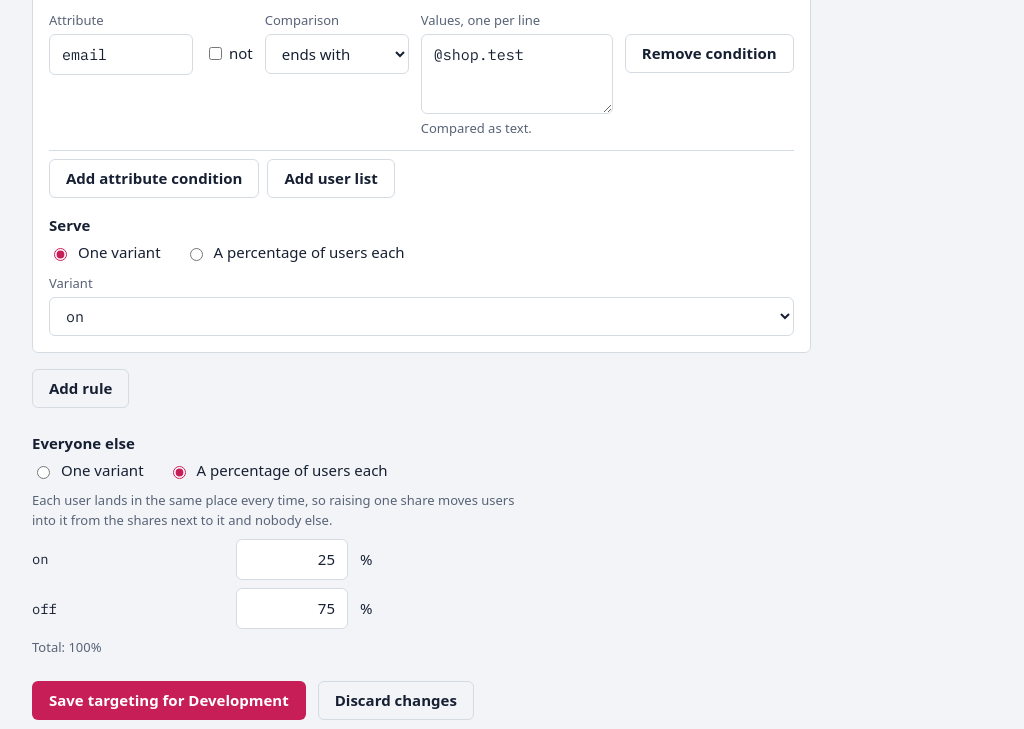
Test: editing targeting › moves a rule up so it is tried first
(page scrolled)
Click the button "Add rule" at (81, 388), box [32,369,129,408]
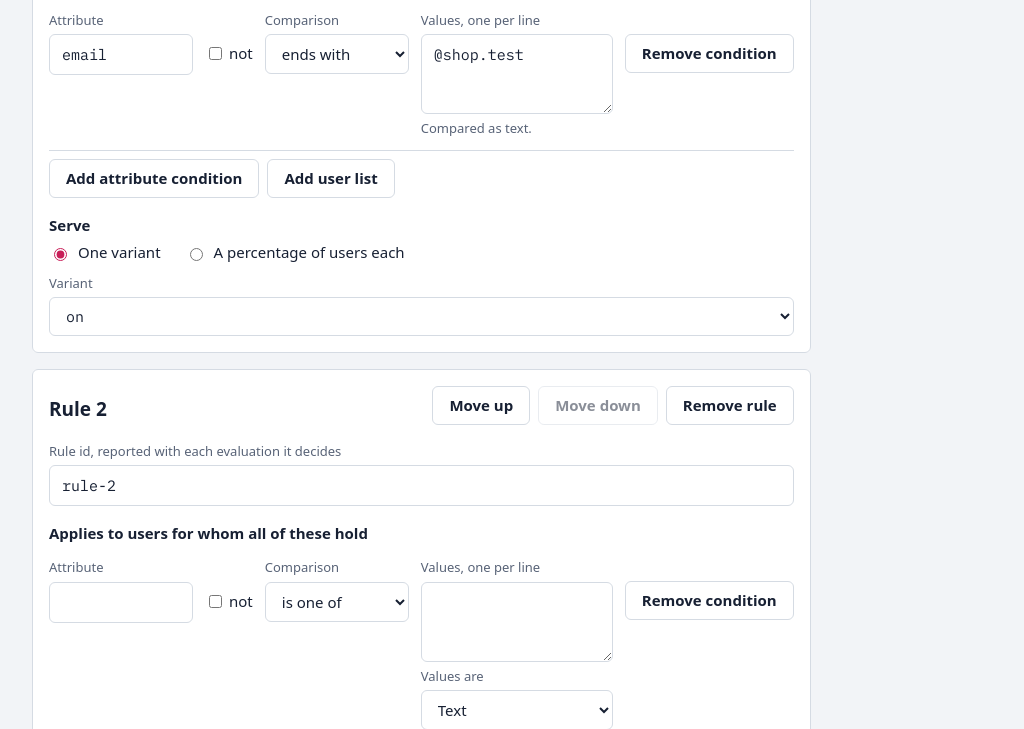
Type "country" into the field labelled "Attribute" below "Rule 2" at (121, 602), box [49,582,193,623]
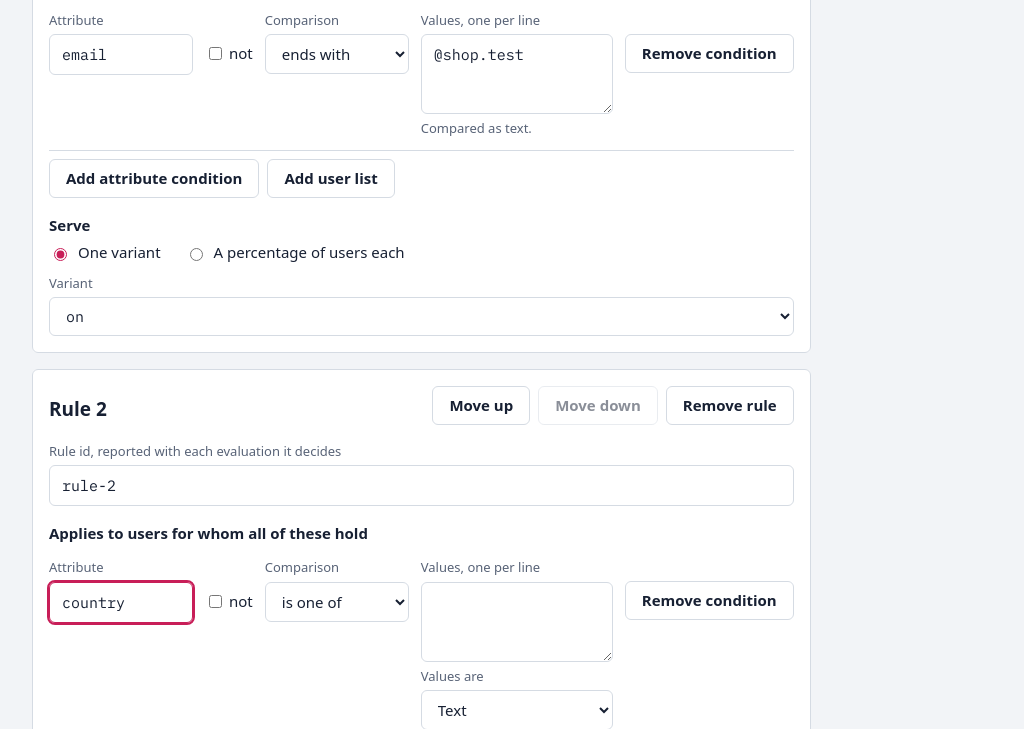
Type "DE" into the 2nd text box labelled "Values, one per line" at (517, 622), box [421,582,613,662]
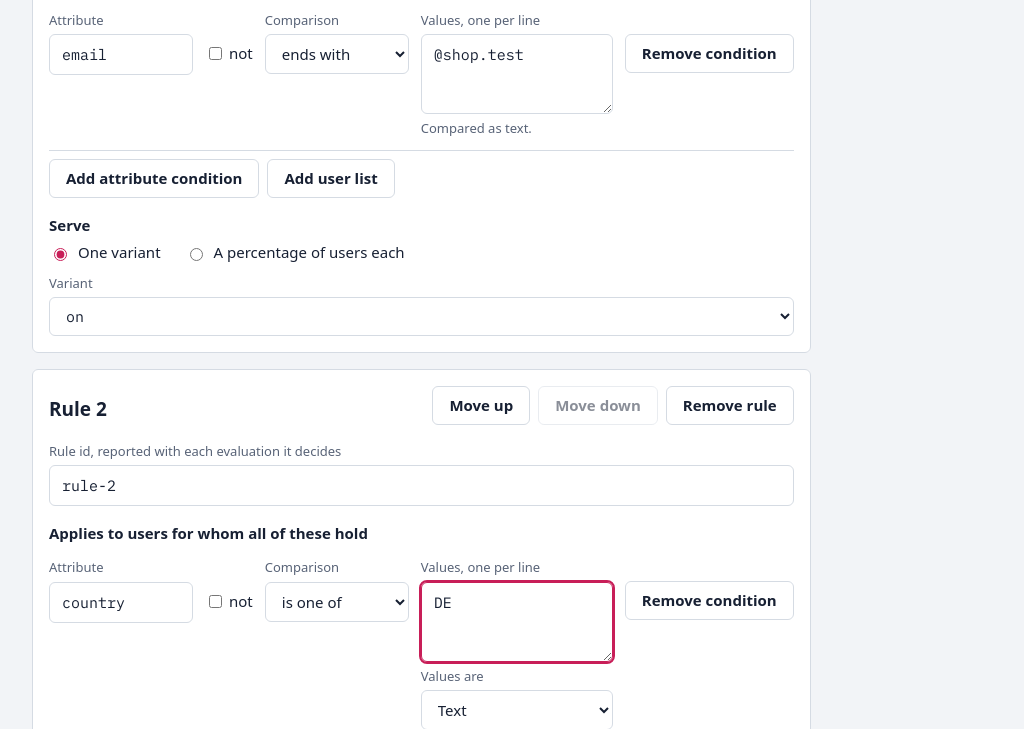
Click the button "Move up" at (481, 405), box [432,386,530,425]
(page scrolled)
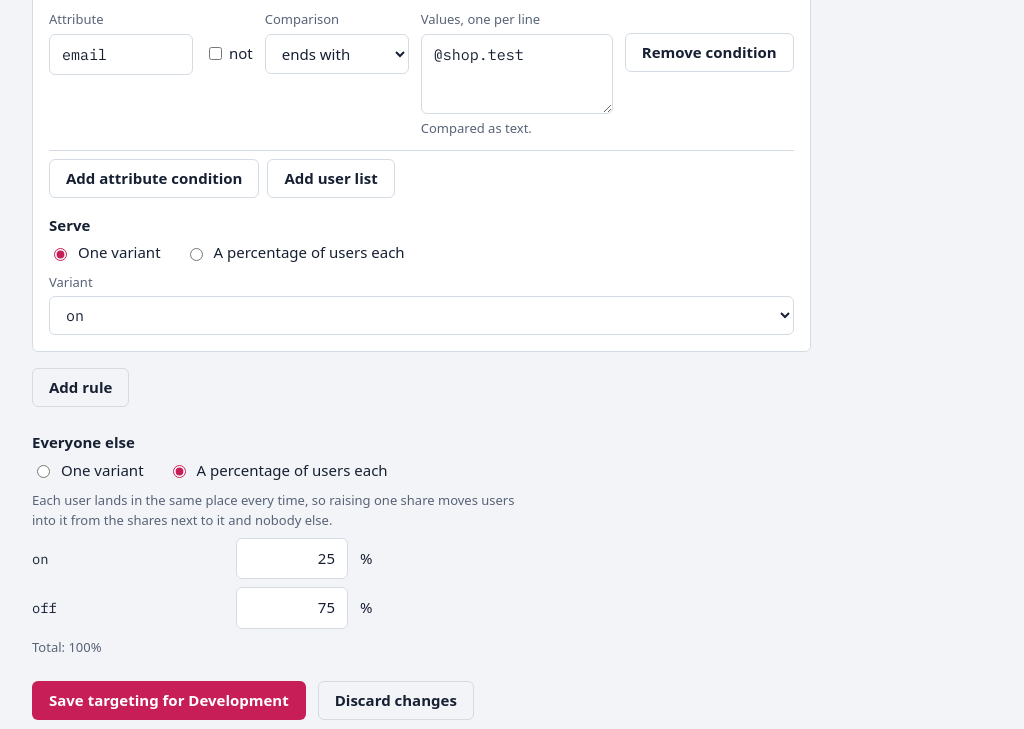
Click the button "Save targeting for Development" at (169, 700), box [32,681,306,720]
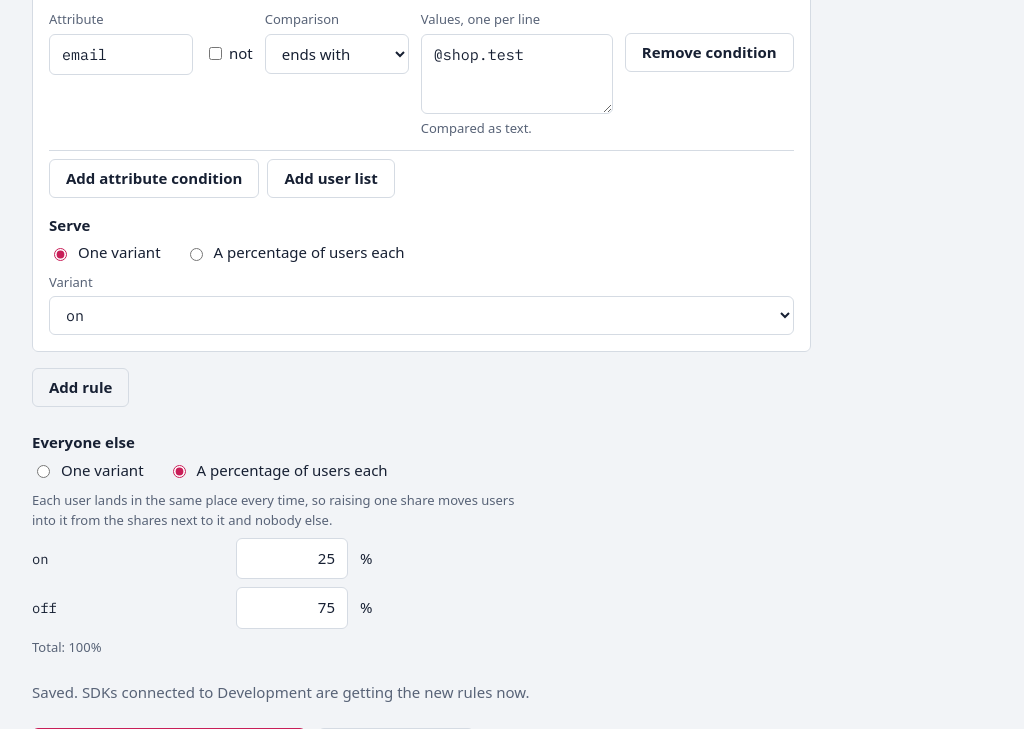
Expected: the text "Saved. SDKs connected to Development are getting the new rules now." is shown, [32,681,615,704]
